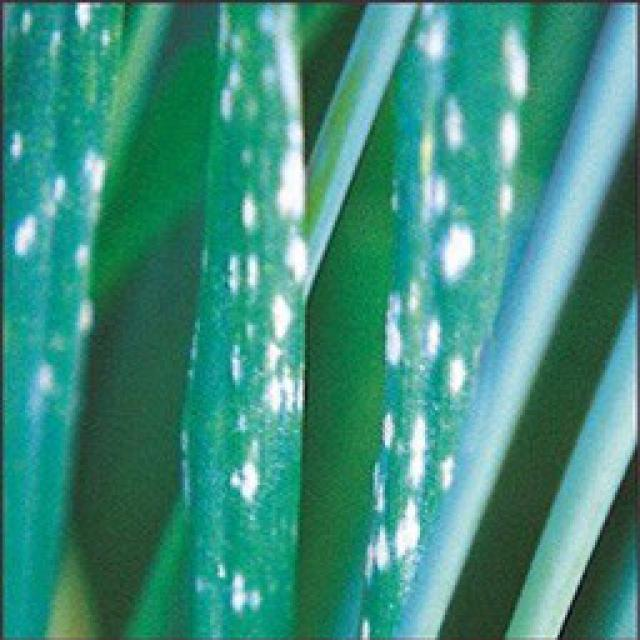wheat-powdery-mildew: (357, 0, 541, 640), (180, 2, 307, 639), (0, 0, 130, 442)
